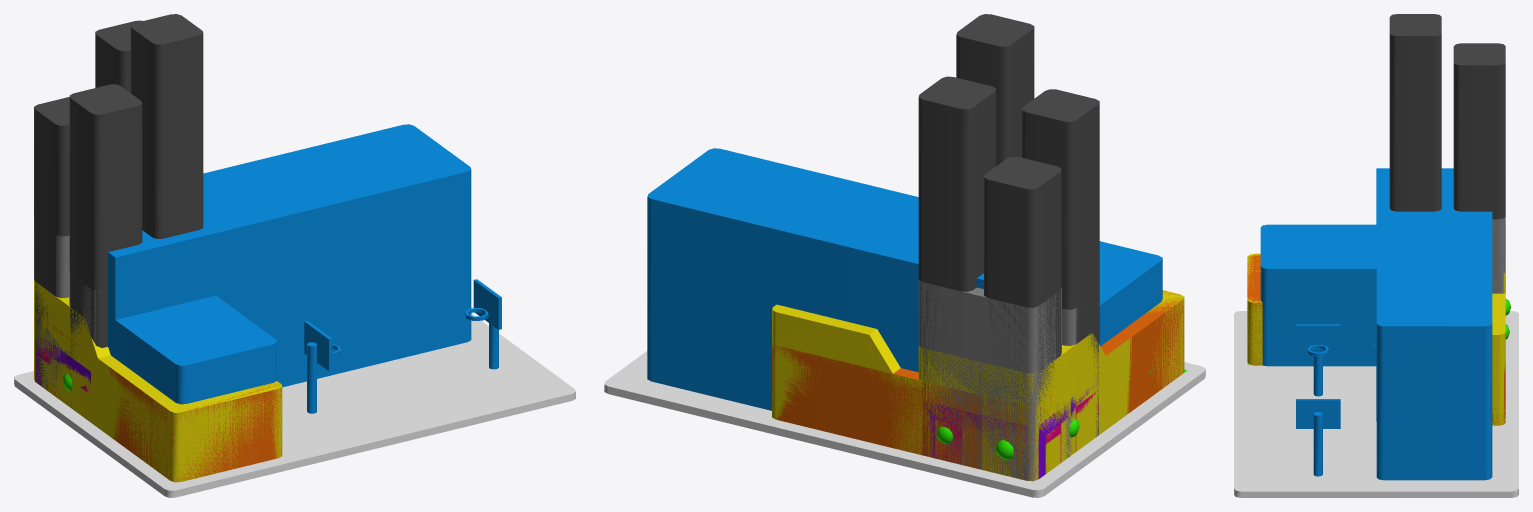
Rendered from Models.gltf.
The picture shows the model from 3 angles, left to right: view 1: azimuth 30°, elevation 25°; view 2: azimuth 150°, elevation 25°; view 3: azimuth 270°, elevation 25°; orthographic projection. The views are drawn at different scales.
Parts seen in each view (by area): view 1: School_2x3, Work_1x1, SCenter_1x2, RStore_1x2, Park_1x2, GStore_1x1, ABloc_1x1, APlex_1x1; view 2: School_2x3, Work_1x1, ABloc_1x1, SCenter_1x2, RStore_2x1, SCenter_2x1, RStore_1x2, GStore_1x1, Park_1x2, APlex_1x1, BStore_1x1, Park_1x1; view 3: School_2x3, Work_1x1, SCenter_1x2, SCenter_2x1, ABloc_1x1, Park_1x2, RStore_1x2, GStore_1x1.
Boxes of the visible parts, box(x1,y1,x2,y2) form: School_2x3: box(14, 124, 575, 497); Work_1x1: box(34, 14, 203, 406); SCenter_1x2: box(18, 279, 301, 496); RStore_1x2: box(34, 315, 282, 481); Park_1x2: box(16, 379, 301, 497); GStore_1x1: box(14, 336, 90, 429); ABloc_1x1: box(34, 218, 100, 438); APlex_1x1: box(16, 327, 76, 409); School_2x3: box(604, 148, 1204, 497); Work_1x1: box(918, 14, 1099, 489); ABloc_1x1: box(918, 280, 1120, 497); SCenter_1x2: box(918, 290, 1204, 480); RStore_2x1: box(772, 344, 1071, 466); SCenter_2x1: box(754, 304, 1051, 487); RStore_1x2: box(922, 290, 1184, 479); GStore_1x1: box(923, 385, 1094, 497); Park_1x2: box(970, 362, 1205, 487); APlex_1x1: box(922, 377, 1098, 492); BStore_1x1: box(922, 392, 1098, 479); Park_1x1: box(936, 419, 1079, 489); School_2x3: box(1234, 168, 1518, 497); Work_1x1: box(1389, 14, 1518, 342); SCenter_1x2: box(1234, 253, 1510, 370); SCenter_2x1: box(1492, 293, 1517, 431); ABloc_1x1: box(1492, 217, 1518, 370); Park_1x2: box(1234, 311, 1516, 370); RStore_1x2: box(1247, 254, 1262, 365); GStore_1x1: box(1505, 311, 1518, 370).
Bounding box in the file's own units: 3 × 2.6 × 2.
